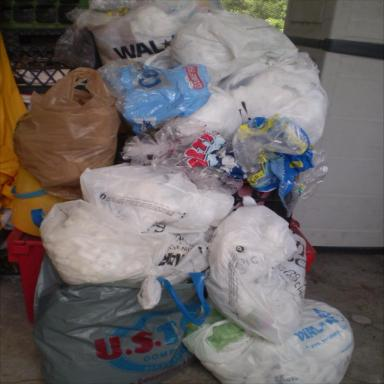plasticbag: (172, 12, 338, 193), (185, 190, 320, 322), (43, 189, 209, 290), (183, 289, 362, 382), (47, 274, 199, 382), (70, 0, 295, 62), (4, 63, 107, 168), (76, 54, 196, 139)
